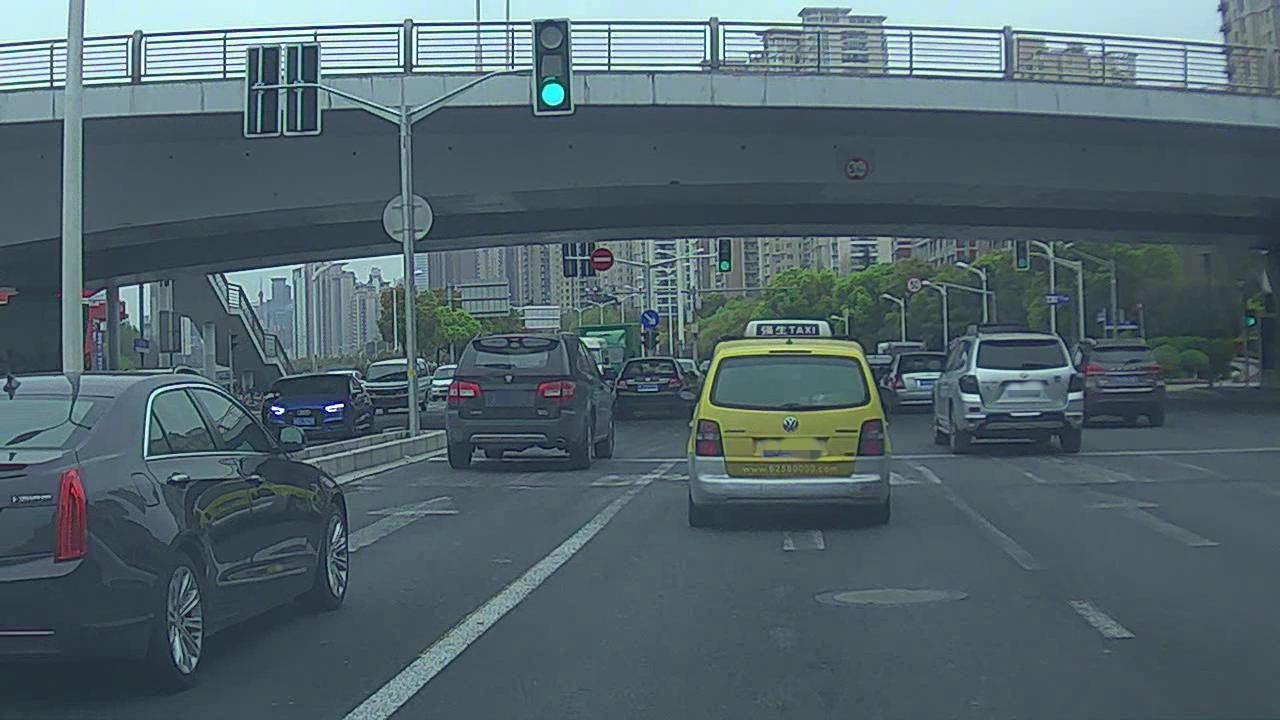traffic_light: (531, 21, 576, 121), (1016, 239, 1030, 268), (720, 237, 732, 270)
